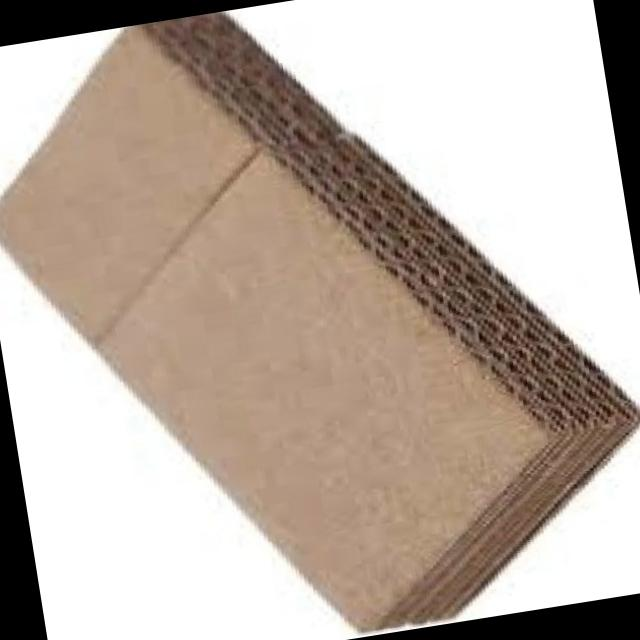cardboard paper: (0, 13, 639, 632)
